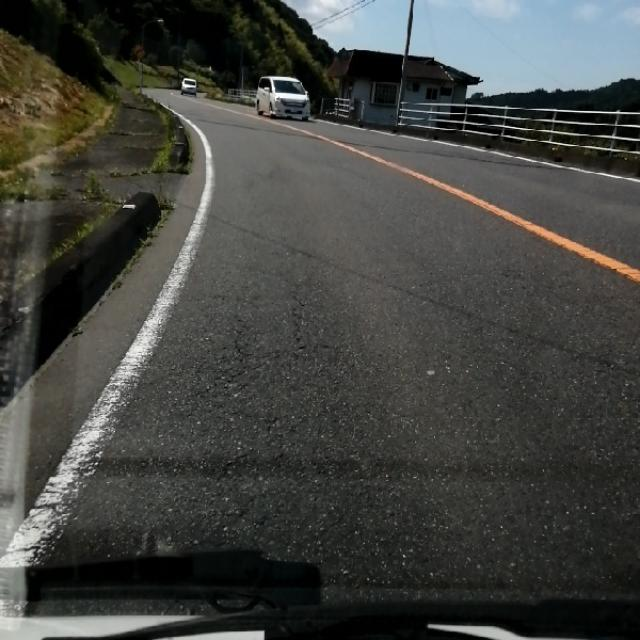pothole: (214, 308, 351, 445)
